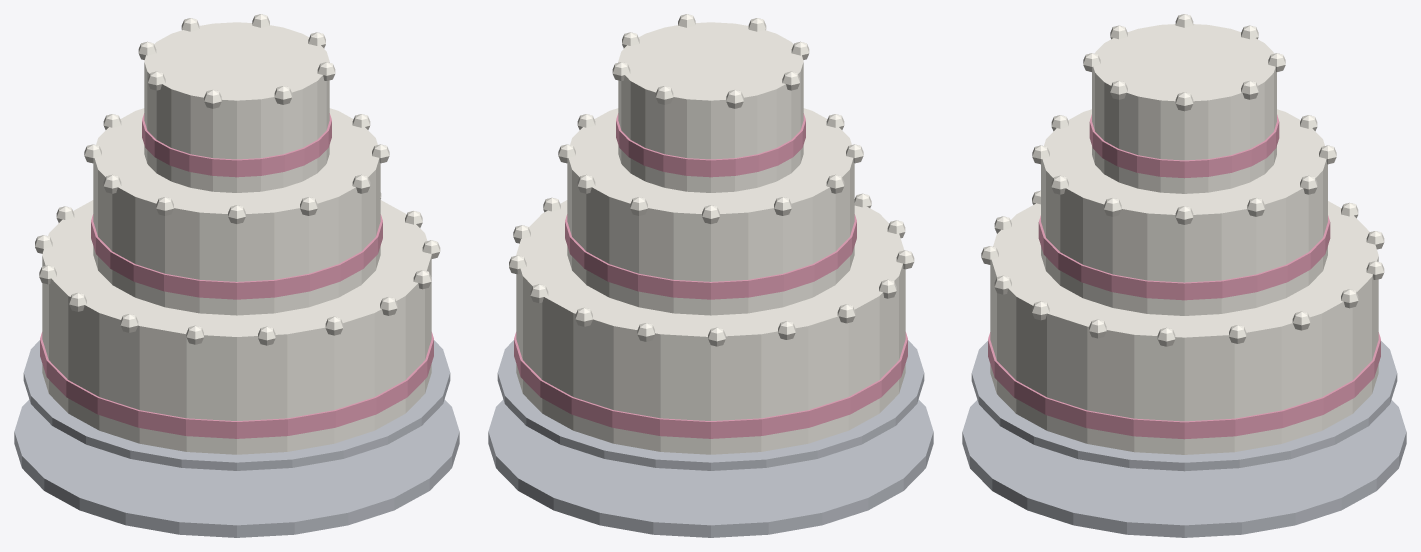
Rendered from wedding_cake.glb.
3 renders of one model, left to right at view 1: azimuth 30°, elevation 25°; view 2: azimuth 150°, elevation 25°; view 3: azimuth 270°, elevation 25°, orthographic.
Visible parts, largest first — view 1: cake_wedding_cake_icing, stand_wedding_cake_stand, ribbon_wedding_cake_ribbon; view 2: cake_wedding_cake_icing, stand_wedding_cake_stand, ribbon_wedding_cake_ribbon; view 3: cake_wedding_cake_icing, stand_wedding_cake_stand, ribbon_wedding_cake_ribbon.
Part boxes in pixels (bbox=[...]): cake_wedding_cake_icing: bbox=[35, 14, 440, 454]; stand_wedding_cake_stand: bbox=[14, 340, 459, 537]; ribbon_wedding_cake_ribbon: bbox=[40, 113, 433, 438]; cake_wedding_cake_icing: bbox=[509, 14, 914, 454]; stand_wedding_cake_stand: bbox=[488, 340, 933, 537]; ribbon_wedding_cake_ribbon: bbox=[514, 113, 907, 438]; cake_wedding_cake_icing: bbox=[981, 14, 1384, 454]; stand_wedding_cake_stand: bbox=[962, 341, 1406, 537]; ribbon_wedding_cake_ribbon: bbox=[988, 114, 1380, 439].
Size of the model in its own units: 0.96 by 0.932 by 0.96.
